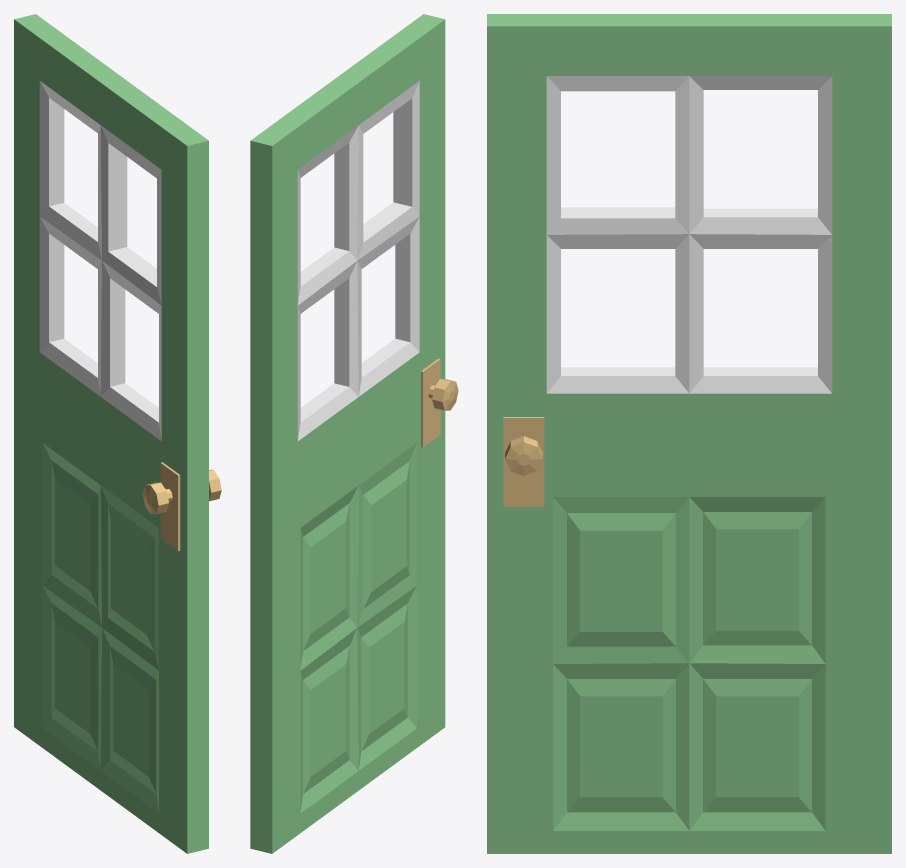
The model's file is Door_01.gltf.
3 views of the same model, side by side, from view 1: azimuth 30°, elevation 25°; view 2: azimuth 150°, elevation 25°; view 3: azimuth 270°, elevation 25° (orthographic). The views are drawn at different scales.
Visible parts, largest first — view 1: node-0; view 2: node-0; view 3: node-0.
Part boxes in pixels (x1,y1,x2,y2): node-0: (14, 14, 221, 853); node-0: (250, 14, 458, 853); node-0: (487, 14, 891, 853).
Size of the model in its own units: 0.9703 by 9.96 by 4.42.
